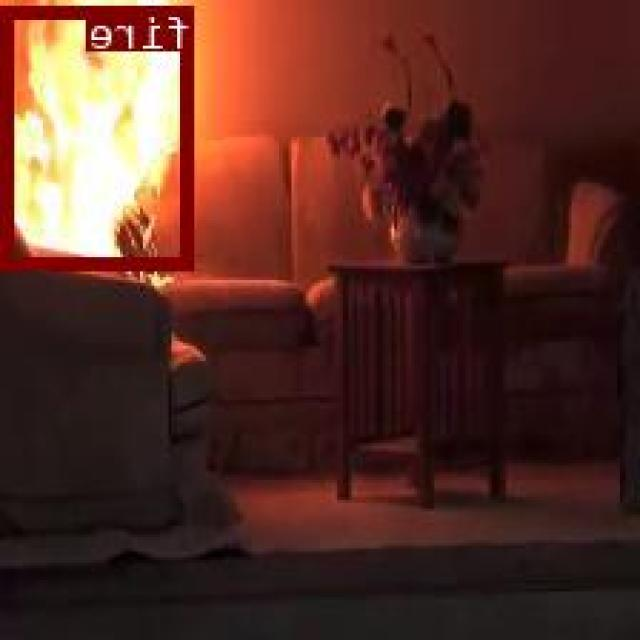fire: (6, 3, 196, 266)
